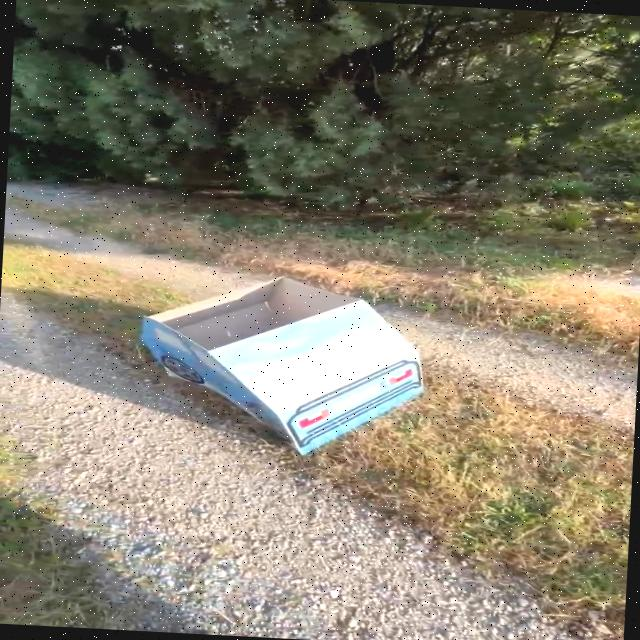blue_car: (87, 249, 498, 474)
